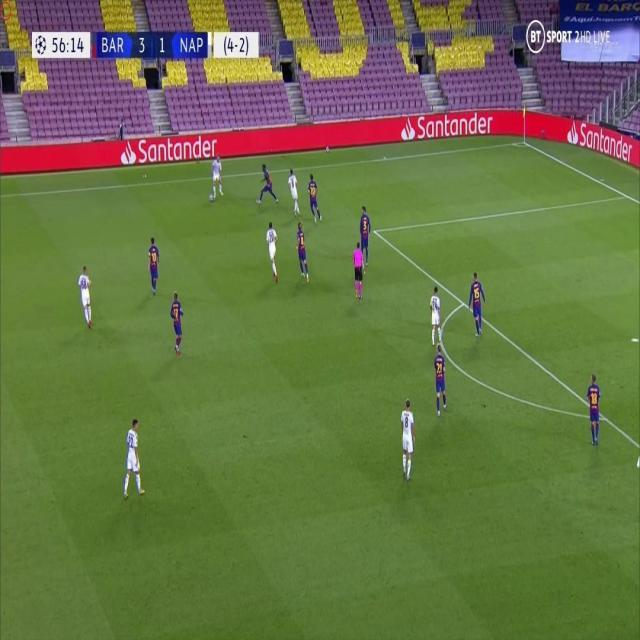ball: (208, 192, 214, 202)
player: (122, 415, 144, 503), (399, 393, 417, 482), (586, 369, 603, 447), (468, 268, 486, 339), (168, 289, 186, 357), (432, 344, 448, 418), (77, 262, 93, 329), (256, 162, 279, 207), (264, 219, 280, 282), (146, 234, 161, 296), (429, 284, 443, 349), (295, 220, 309, 283), (358, 203, 371, 267), (306, 172, 322, 224), (286, 167, 301, 215), (210, 150, 224, 201)
referee: (351, 237, 365, 302)
